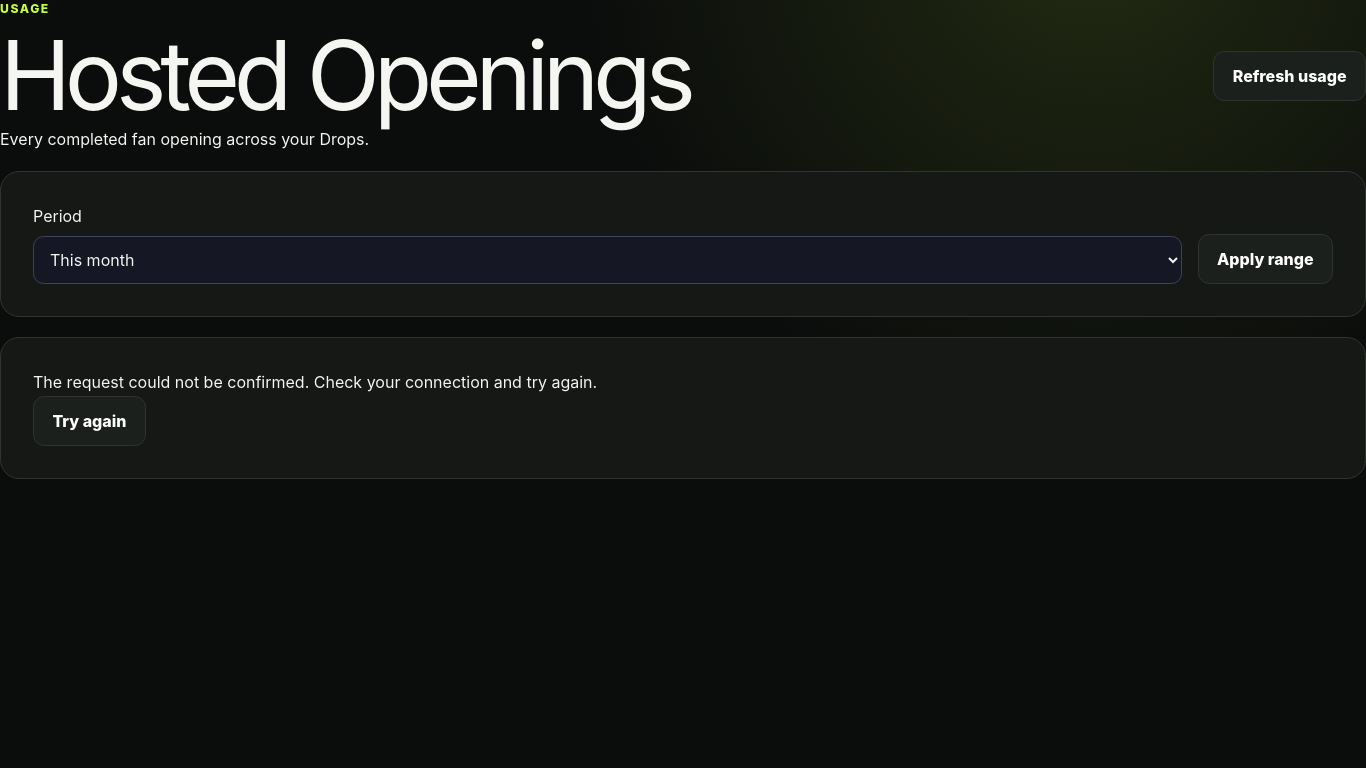
Test: R4 creator hosted usage UI › shows a retryable error without stale counts
This screenshot has width=1366, height=768.
Check: the message is shown, box 0,337 -> 1365,479
Check: the text "Lifetime openings" is not shown
Click the button "Try again": (89, 421) 33,396 -> 146,446
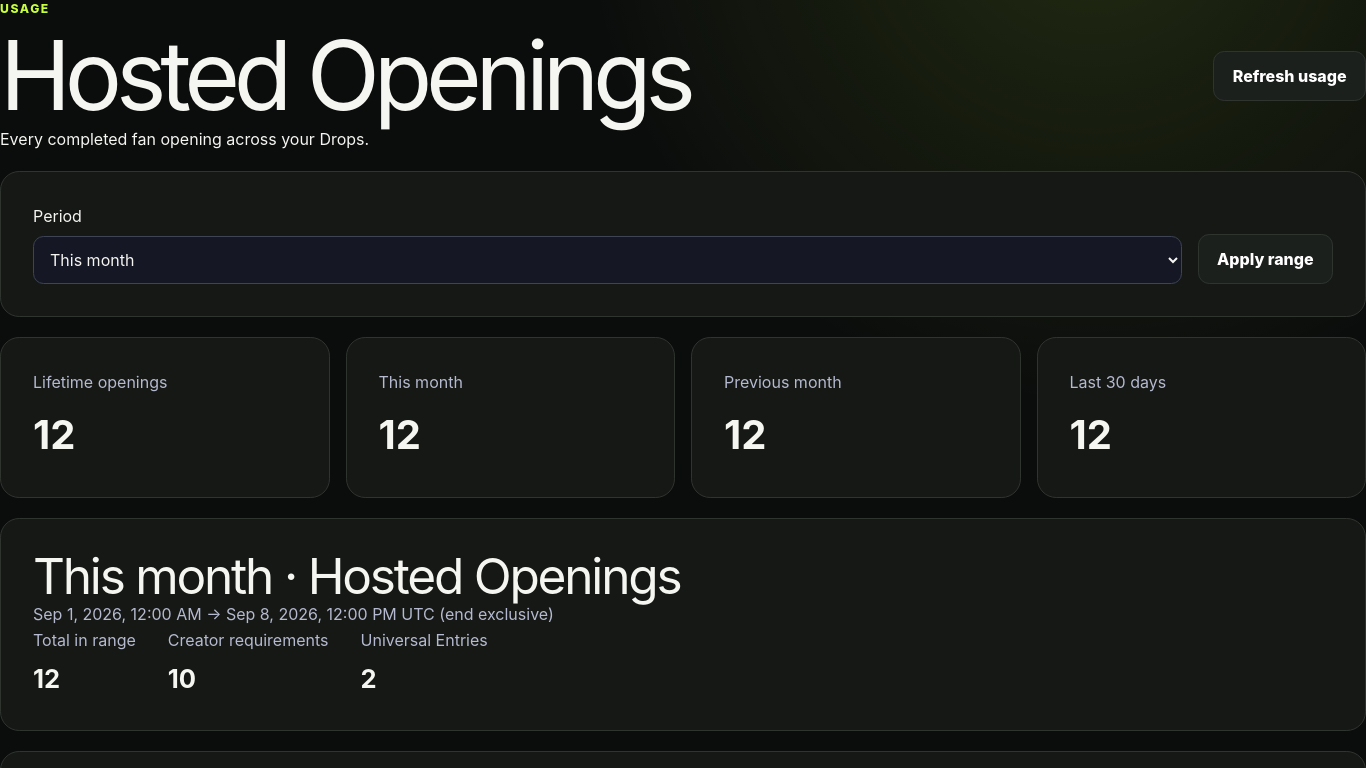
Check: the text "Lifetime openings" is shown, box 33,372 -> 167,392
